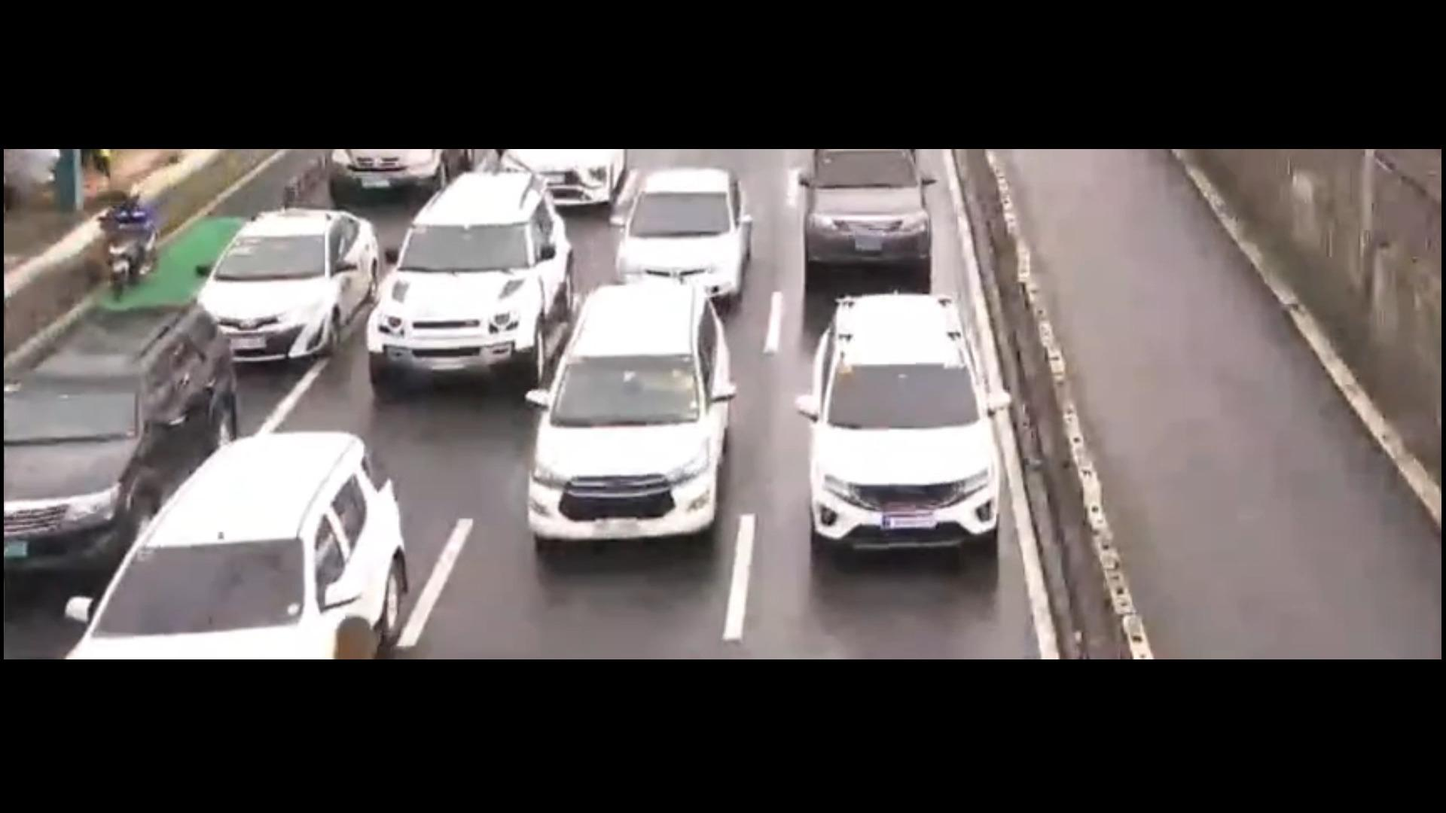Motorcycle: (97, 177, 162, 292)
SUV: (58, 413, 430, 655), (0, 292, 245, 592), (501, 285, 754, 571), (784, 283, 1026, 560), (359, 170, 584, 404), (793, 145, 948, 291)
Sedan: (192, 194, 388, 363), (614, 157, 765, 306)
